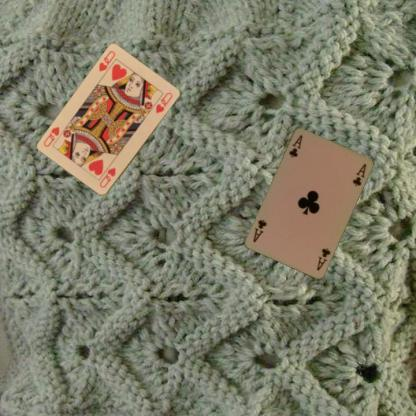Ac: (314, 245, 332, 272), (286, 132, 304, 158)
Qh: (96, 48, 117, 73), (97, 166, 117, 190)
